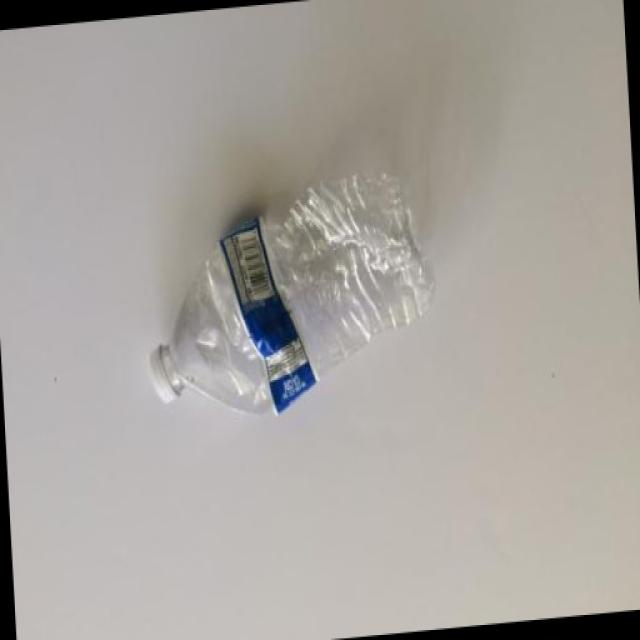plastico: (127, 131, 508, 481)
